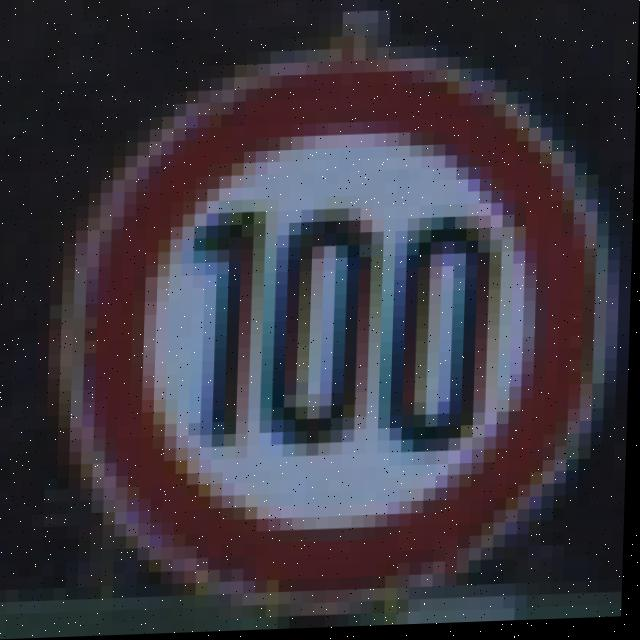speed_limit_100: (71, 56, 603, 625)
